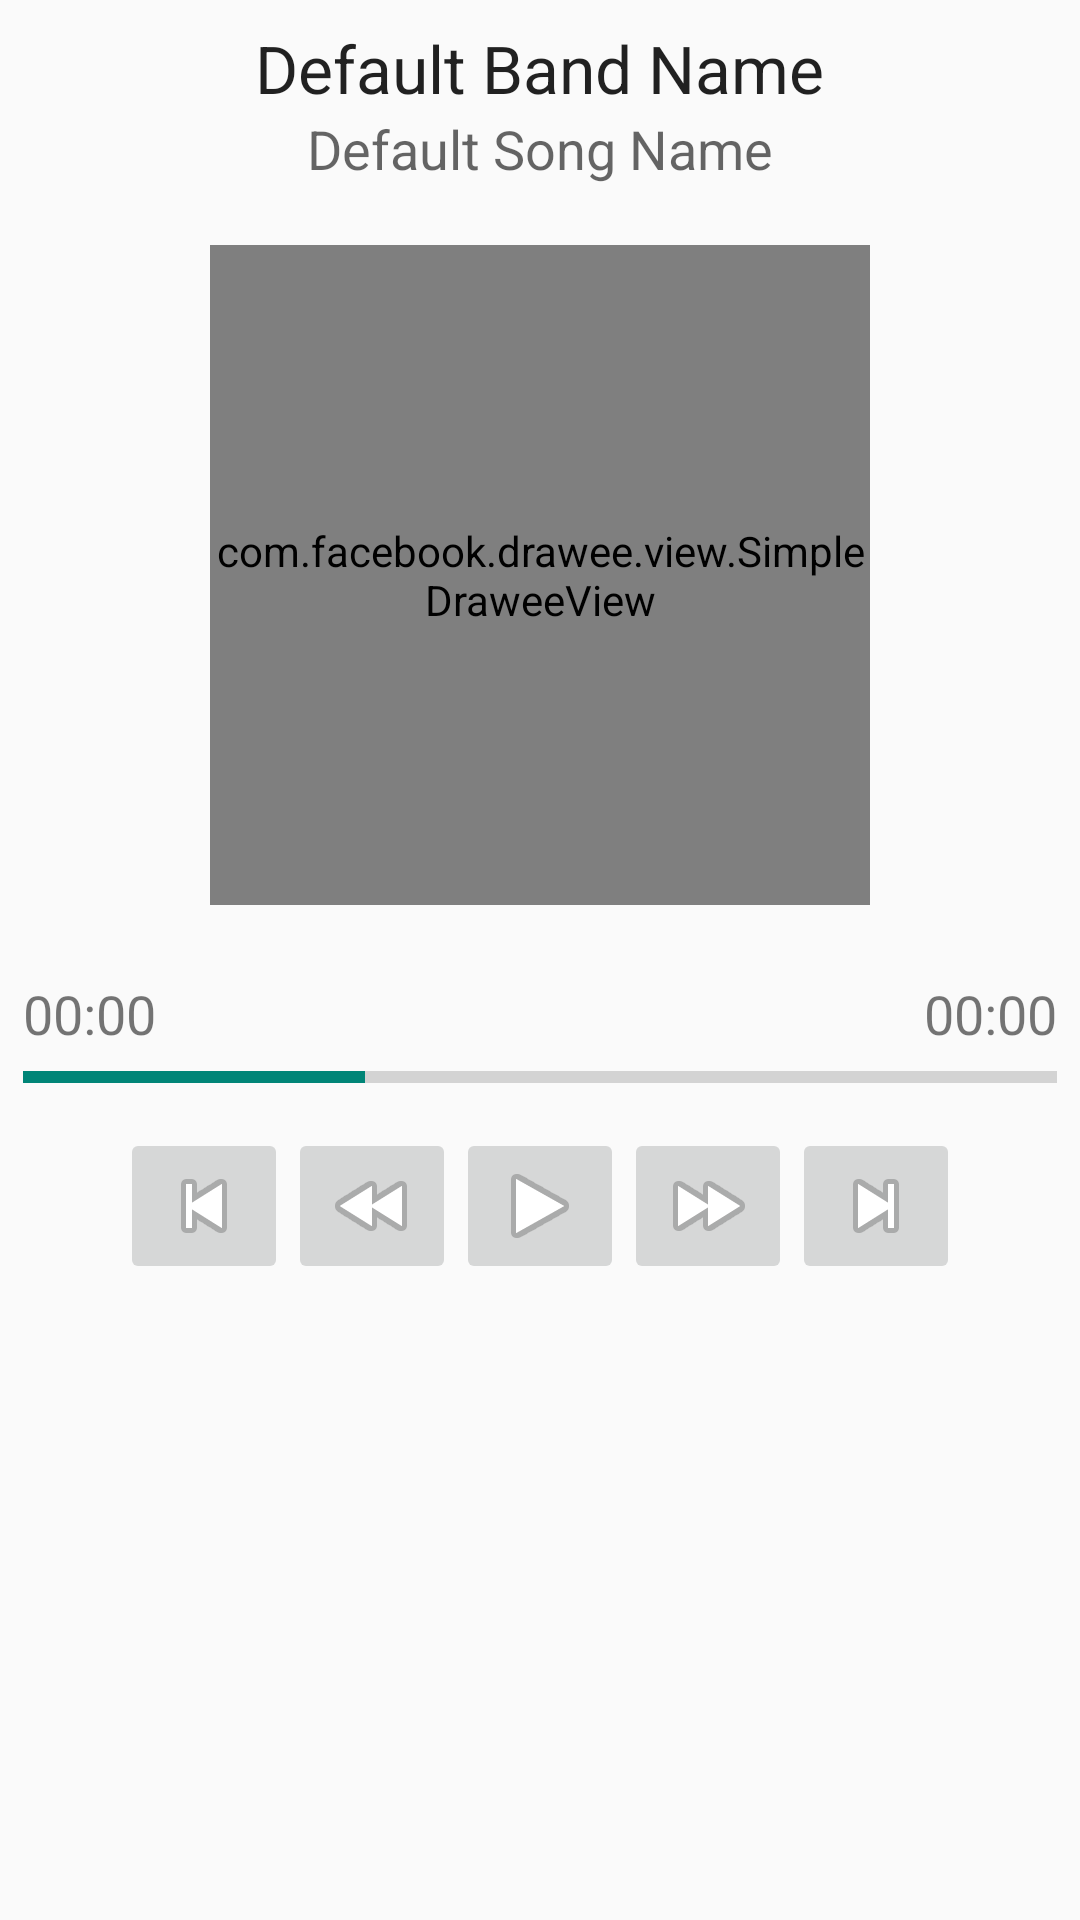

Icons on this 1080*1920 Android screen, each with its box as {"left": x1, "top": y1, "right": x2, "bottom": y2}:
next: {"left": 804, "top": 1146, "right": 948, "bottom": 1266}
play: {"left": 468, "top": 1146, "right": 612, "bottom": 1266}
previous: {"left": 132, "top": 1146, "right": 276, "bottom": 1266}
rew: {"left": 300, "top": 1146, "right": 444, "bottom": 1266}
